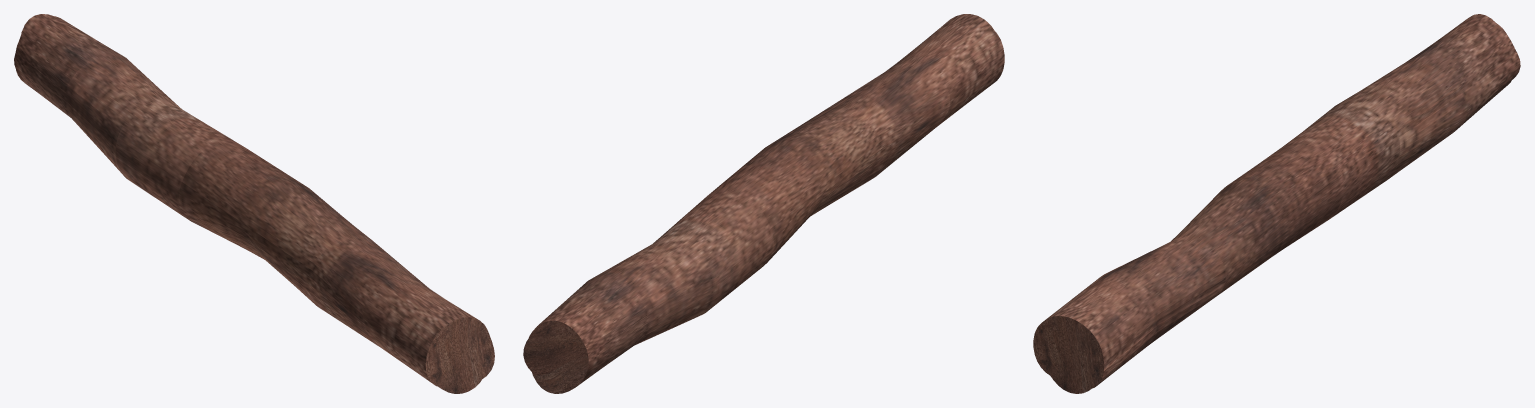
The model's file is branch2.fbx.
3 views of the same model, side by side, from view 1: azimuth 30°, elevation 25°; view 2: azimuth 150°, elevation 25°; view 3: azimuth 330°, elevation 25° (orthographic).
Visible parts, largest first — view 1: Cylinder; view 2: Cylinder; view 3: Cylinder.
Boxes of the visible parts, box(x1,y1,x2,y2) form: Cylinder: box(14, 14, 494, 393); Cylinder: box(523, 14, 1004, 393); Cylinder: box(1033, 14, 1520, 393).
Bounding box in the file's own units: 22.58 × 23.14 × 199.
Materials: 1 (1 with a texture image).
